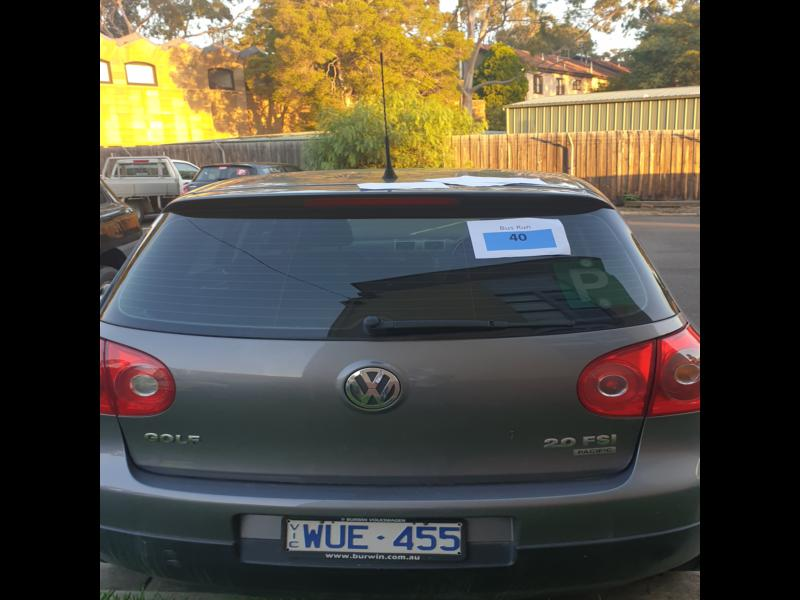BusRun: (482, 230, 558, 251)
PlateNo: (285, 515, 464, 554)
